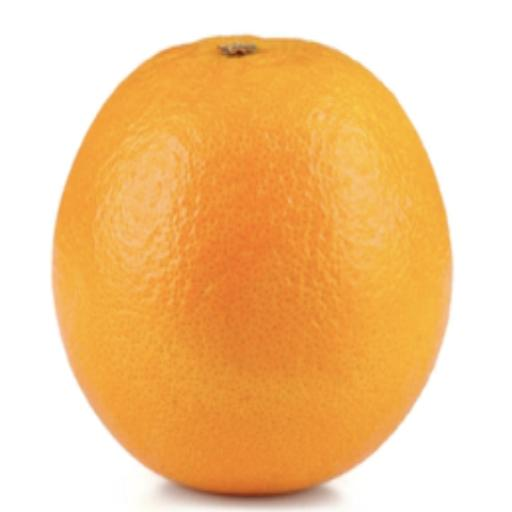orange: (54, 37, 451, 493)
